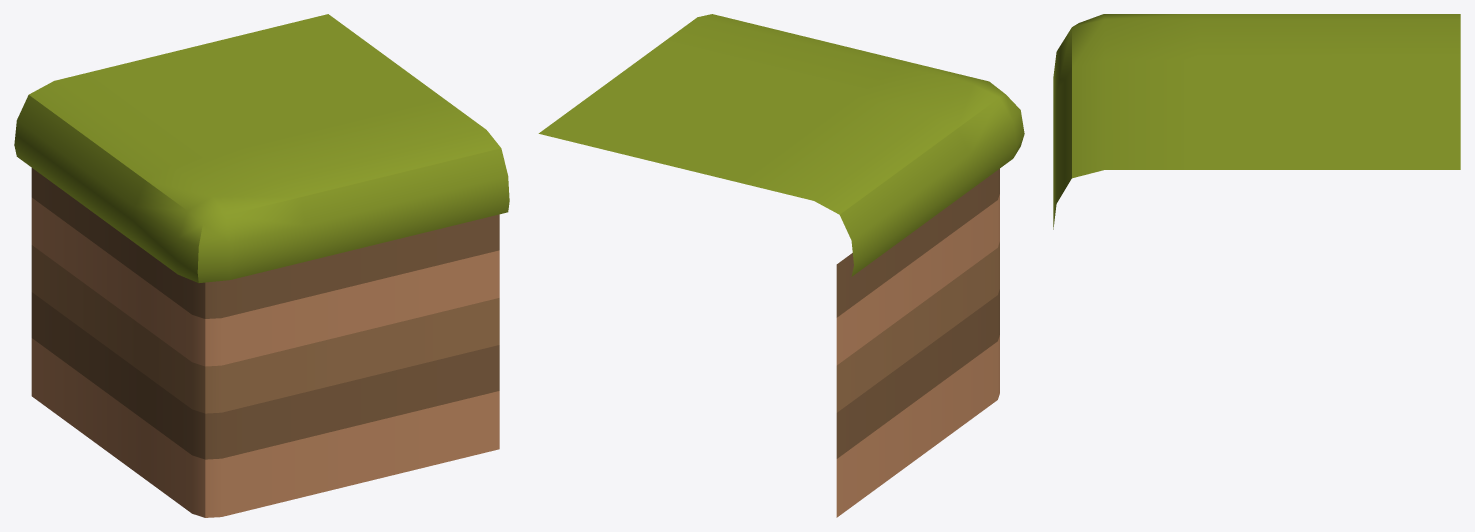
Rendered from cube_grass_corner_tall.glb.
3 renders of one model, left to right at view 1: azimuth 30°, elevation 25°; view 2: azimuth 150°, elevation 25°; view 3: azimuth 270°, elevation 25°, orthographic. The views are drawn at different scales.
Parts seen in each view (by area): view 1: Cube_Grass_Corner_Tall; view 2: Cube_Grass_Corner_Tall; view 3: Cube_Grass_Corner_Tall.
Part boxes in pixels (x1,y1,x2,y2): Cube_Grass_Corner_Tall: [14, 14, 509, 517]; Cube_Grass_Corner_Tall: [538, 14, 1024, 517]; Cube_Grass_Corner_Tall: [1053, 14, 1460, 229].
Size of the model in its own units: 2.12 by 2 by 2.12.
